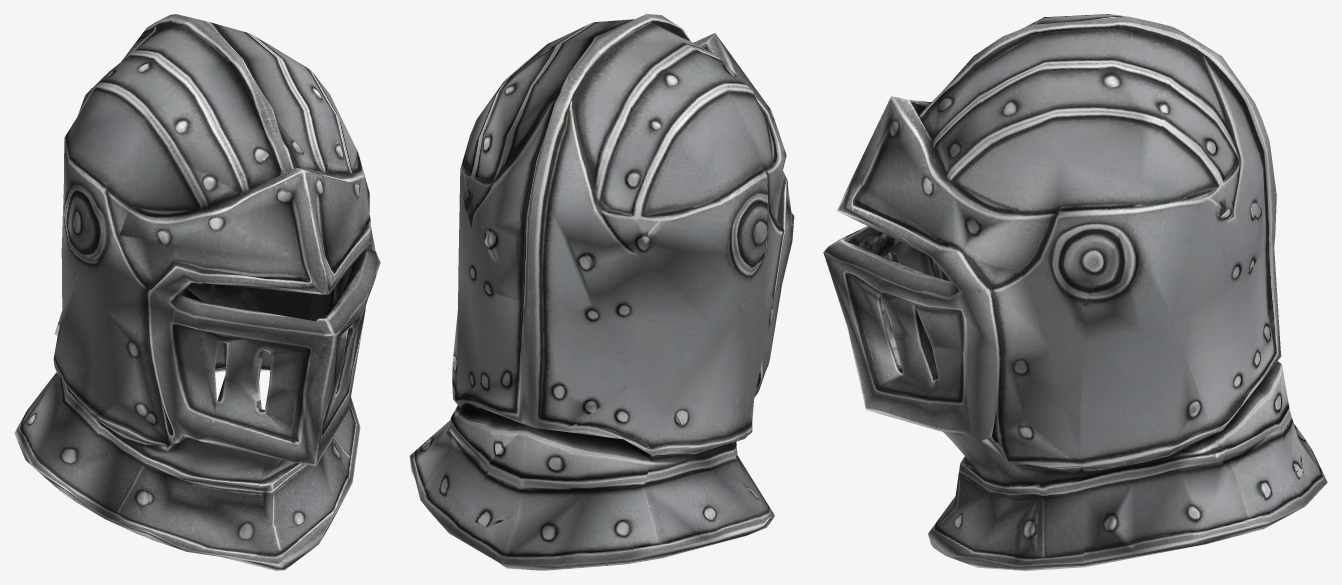
The model's file is Iron Helm.glb.
3 renders of one model, left to right at view 1: azimuth 30°, elevation 25°; view 2: azimuth 150°, elevation 25°; view 3: azimuth 270°, elevation 25°, orthographic. The views are drawn at different scales.
Size of the model in its own units: 1.29 by 1.89 by 1.63.
1 material, 1 textured.
